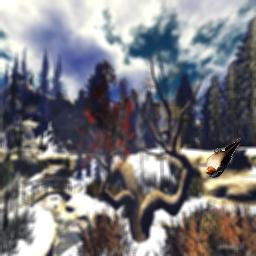Swallow: (205, 138, 241, 178)
